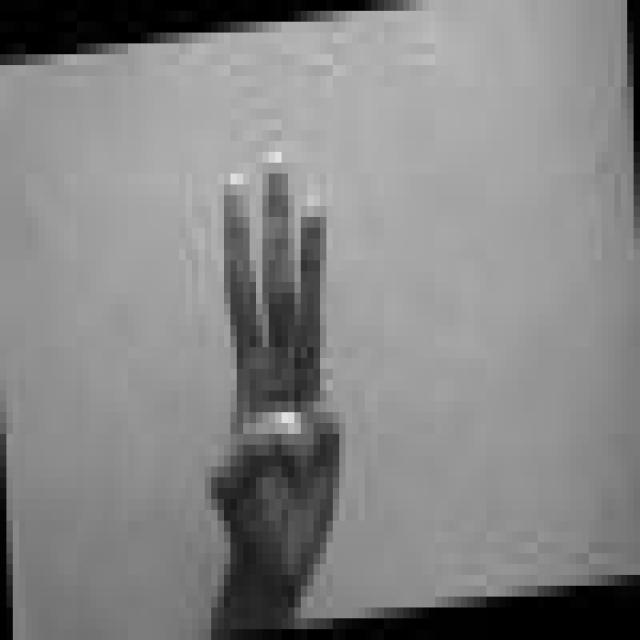W: (202, 146, 348, 570)
